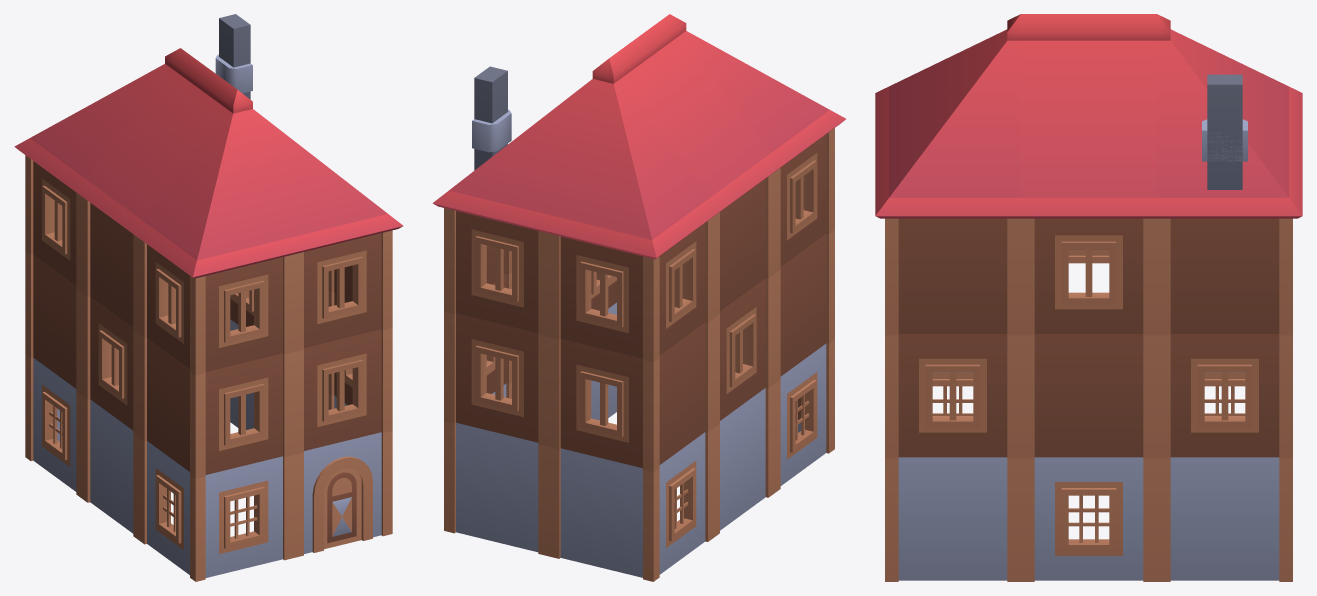
The model's file is house_tall.glb.
3 views of the same model, side by side, from view 1: azimuth 30°, elevation 25°; view 2: azimuth 150°, elevation 25°; view 3: azimuth 270°, elevation 25° (orthographic). The views are drawn at different scales.
Parts seen in each view (by area): view 1: house_tall; view 2: house_tall; view 3: house_tall.
Part boxes in pixels (<box>): house_tall: <box>14,14,403,581</box>; house_tall: <box>432,14,845,581</box>; house_tall: <box>875,14,1302,581</box>.
Bounding box in the file's own units: 6.42 × 12.42 × 9.42.
Materials: 37 (37 with a texture image).
